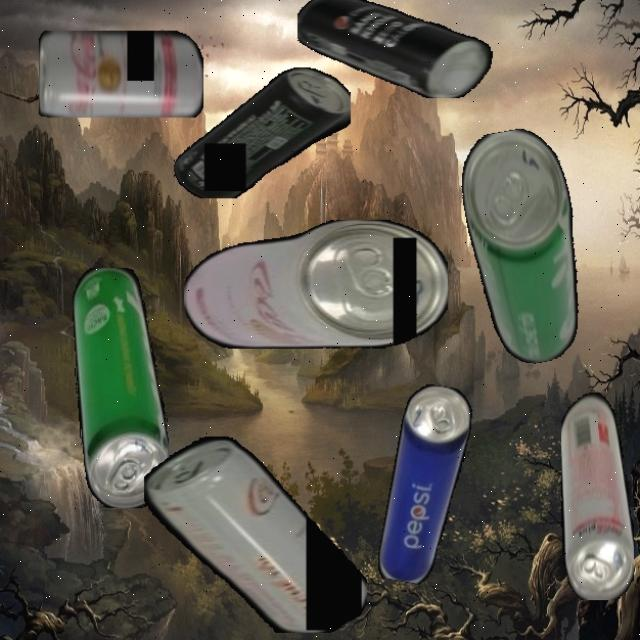debris: (143, 436, 367, 633), (453, 123, 597, 370), (183, 220, 448, 348), (174, 66, 350, 198), (72, 267, 168, 508), (376, 381, 476, 588), (297, 0, 498, 98), (560, 388, 634, 600), (38, 29, 203, 118)
